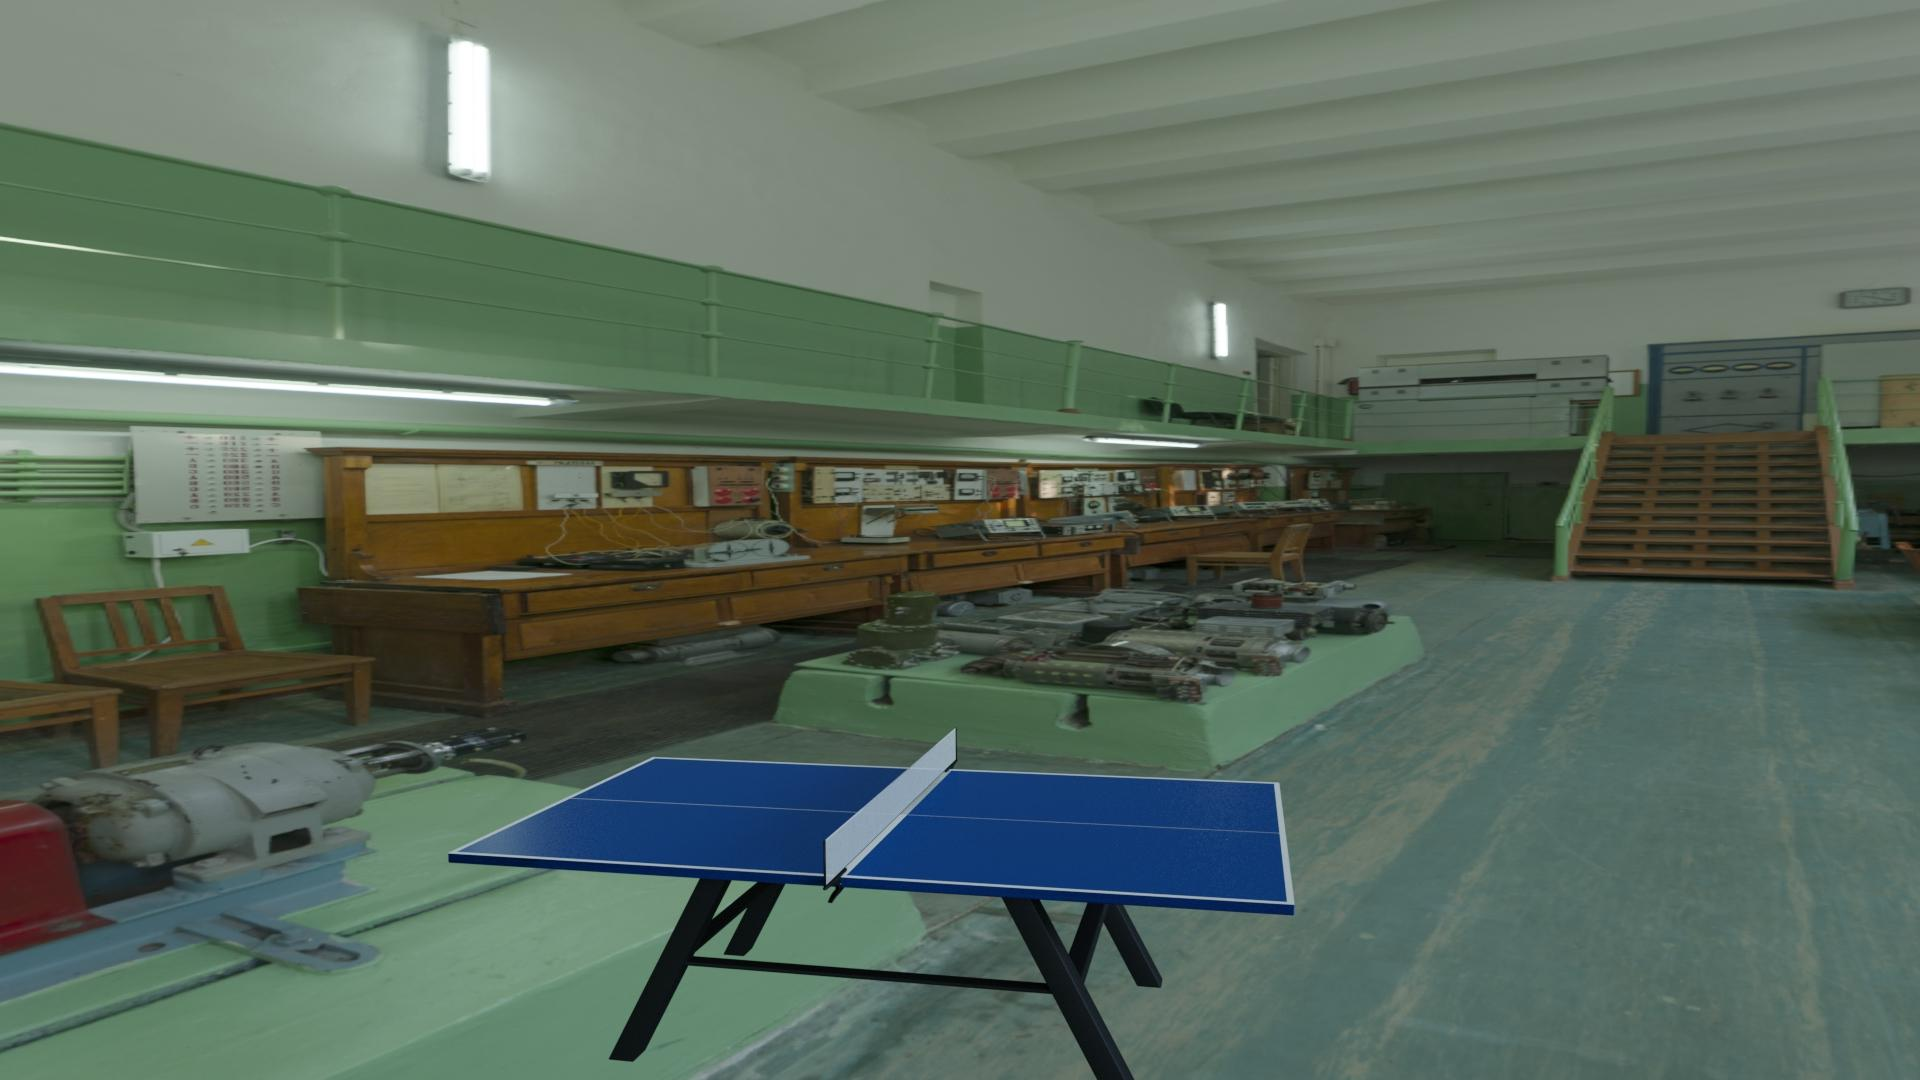table: (456, 758, 1287, 902)
